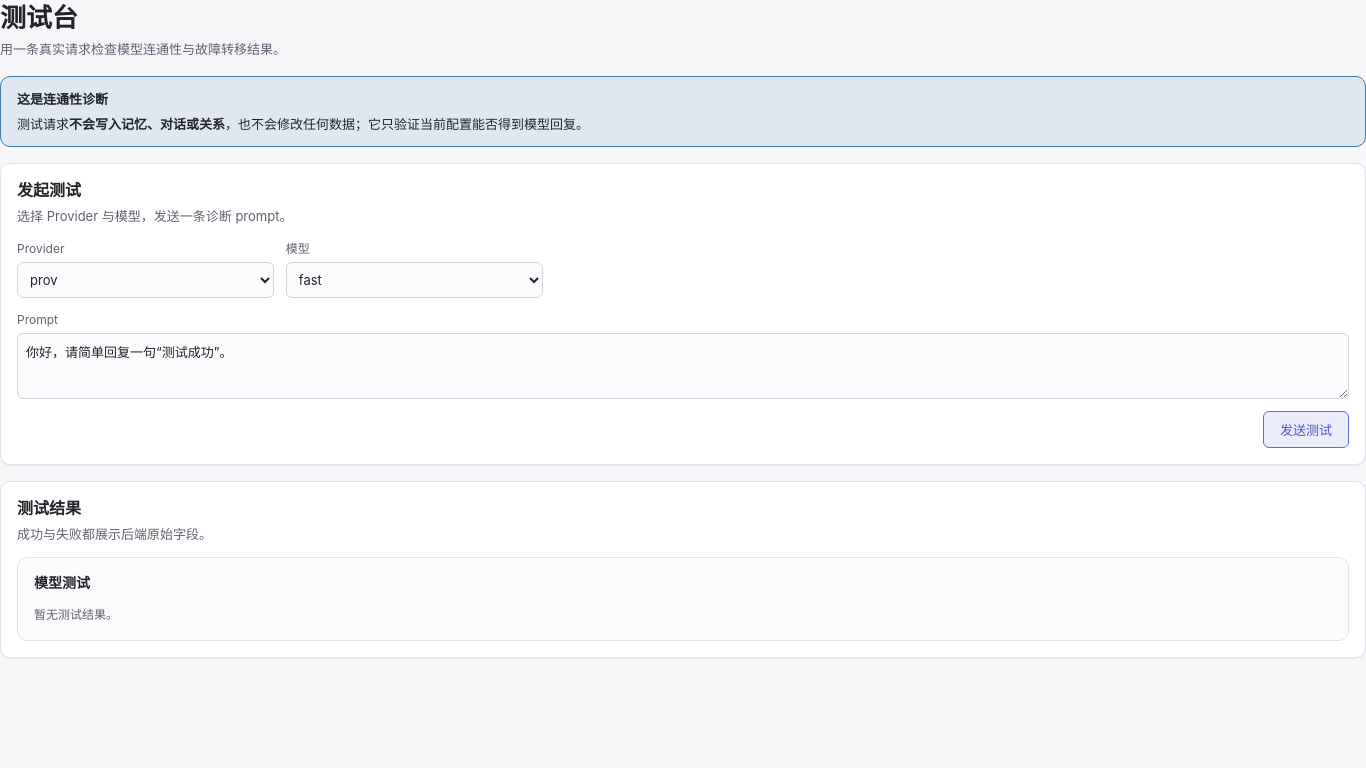
Test: AiTest › posts the chosen model and prompt, then renders the result panel
Replace the text in the text box with test id "test-prompt" with "自定义 prompt" at (683, 366), box [17,333,1349,399]
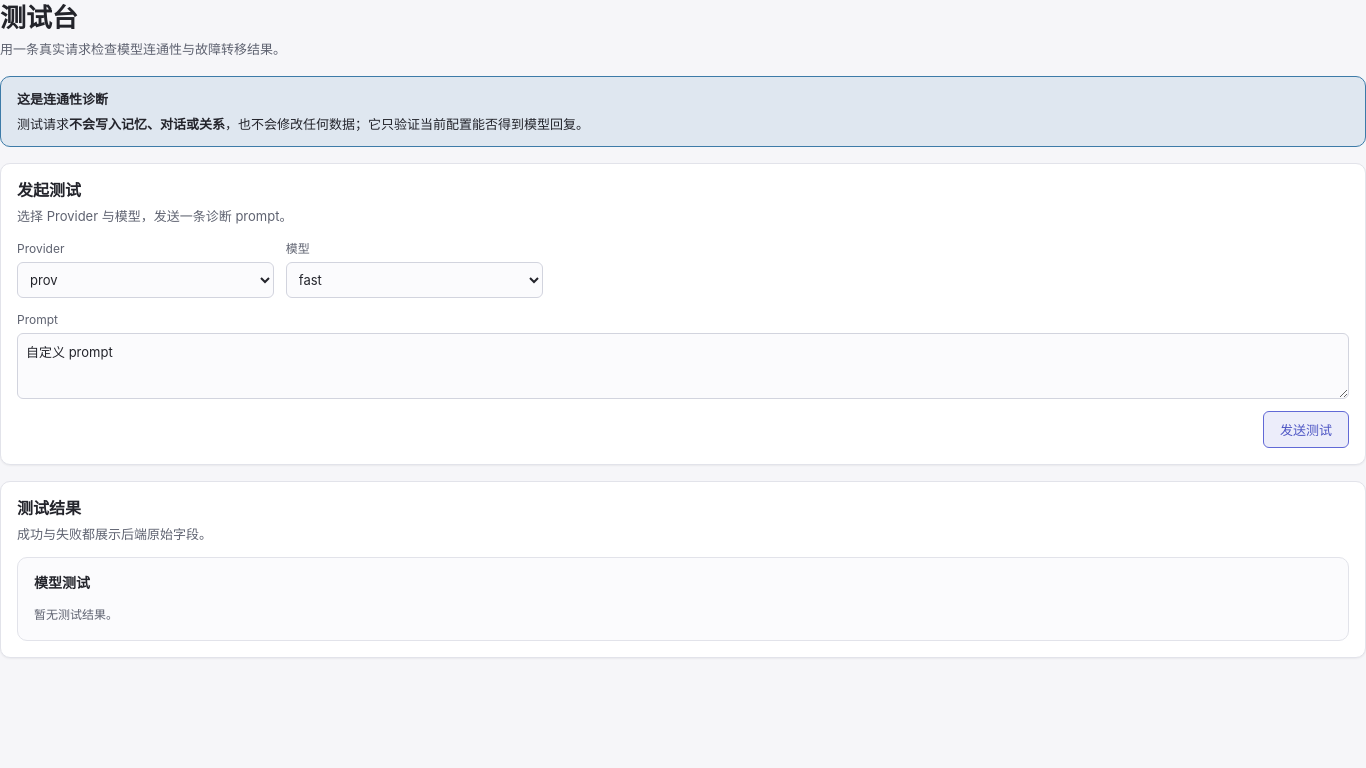
Submit the form with test id "test-form", box [17,239,1349,448]
(page scrolled)
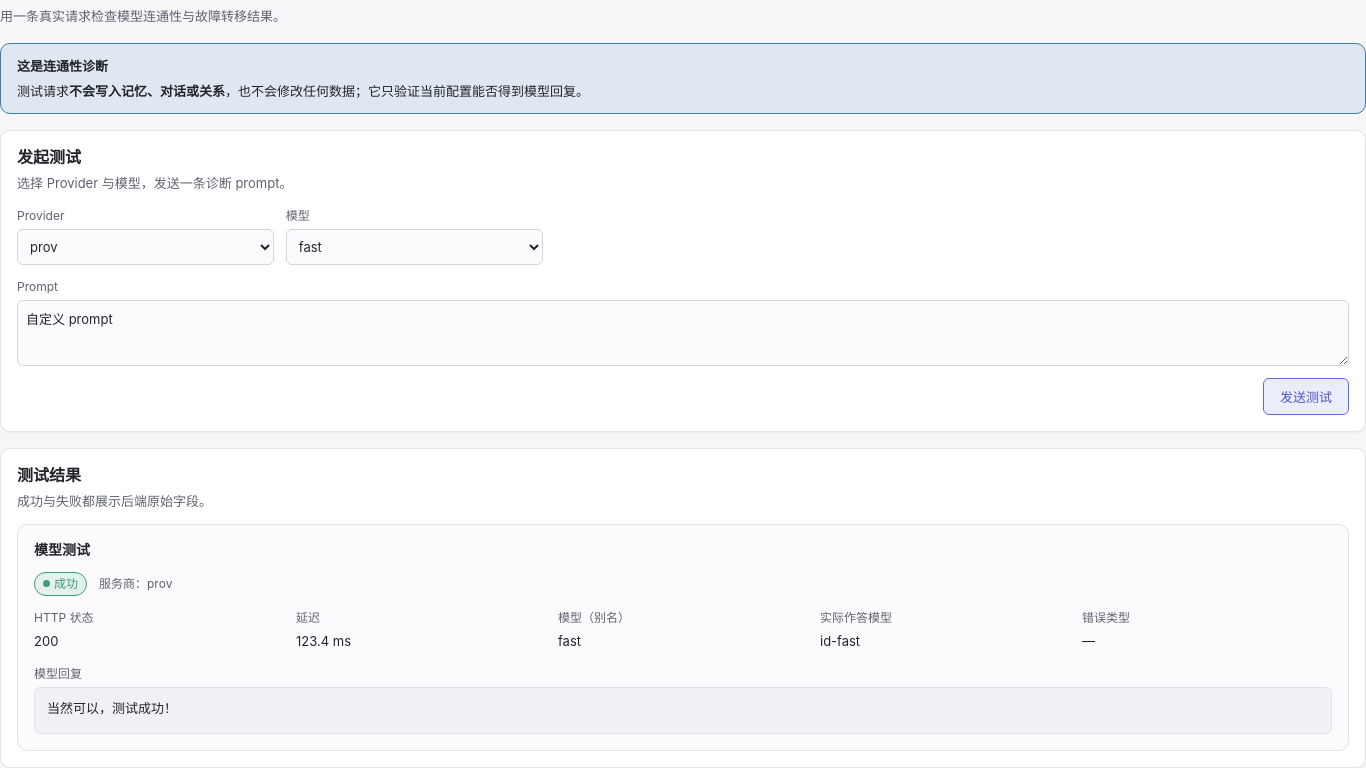
Result: the element with test id "test-result-panel" shows "当然可以，测试成功！" at [47,702,177,717]
Result: the element with test id "test-result-panel" shows "成功" at [54,576,78,590]
